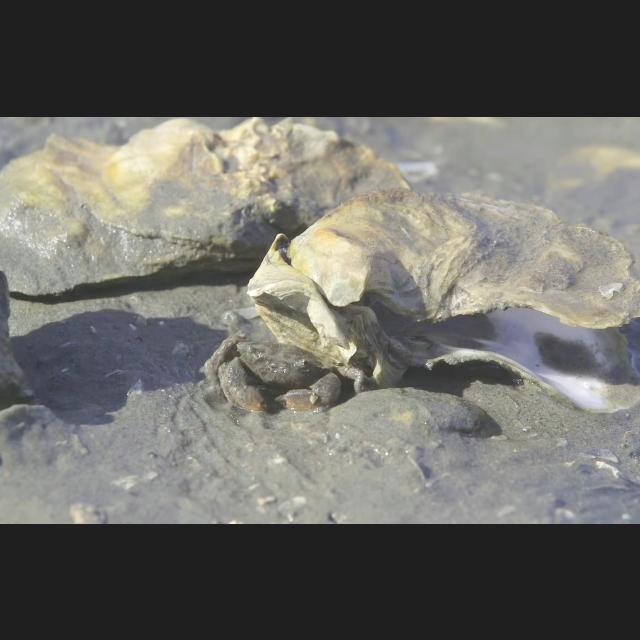Oyster-Closed: (0, 117, 410, 296)
Oyster-Open: (246, 186, 640, 414)
